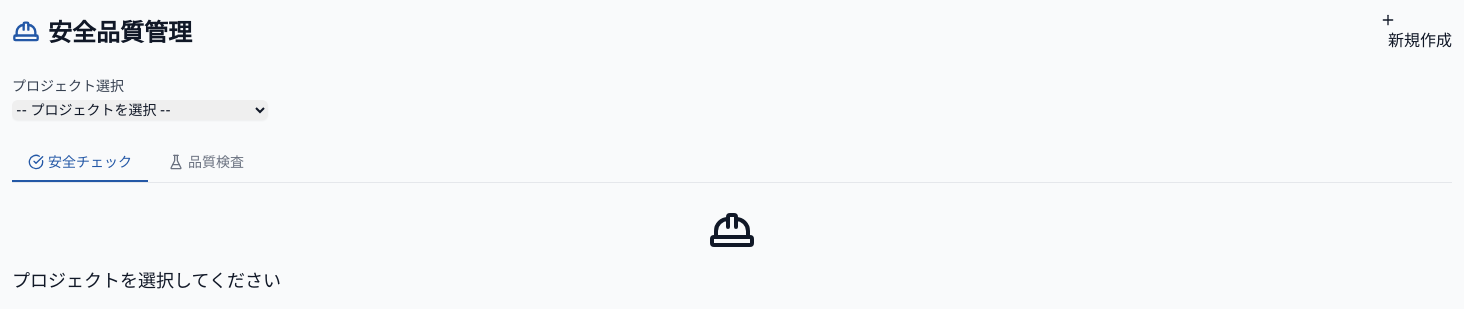
Test: SafetyPage › プロジェクト選択後、安全チェック一覧エリアが表示される
Step 1. Select "PC-001 - テスト案件" in the dropdown → (140,110), box [12,100,268,120]
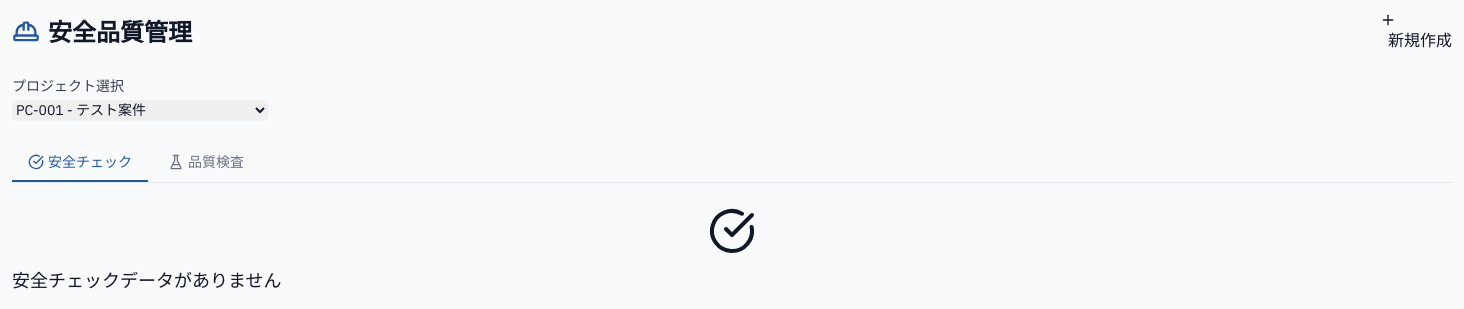
Expected: the text "安全チェックデータがありません" is shown, [12,269,282,292]
